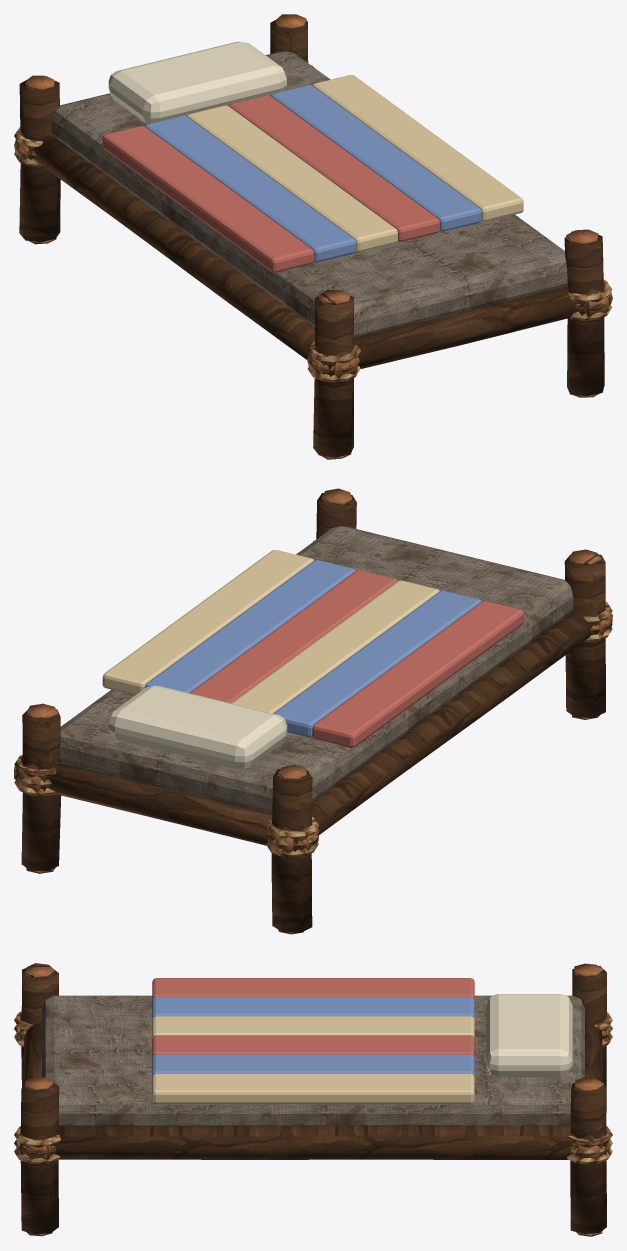
The model's file is shack_bed.glb.
3 views of the same model, one above another, from view 1: azimuth 30°, elevation 25°; view 2: azimuth 150°, elevation 25°; view 3: azimuth 270°, elevation 25° (orthographic). The views are drawn at different scales.
Visible parts, largest first — view 1: model; view 2: model; view 3: model.
Part boxes in pixels (bbox=[...]): model: bbox=[14, 14, 612, 459]; model: bbox=[14, 488, 612, 934]; model: bbox=[14, 963, 612, 1236].
Bounding box in the file's own units: 1.04 × 0.5429 × 1.94.
Materials: 11 (7 with a texture image).
